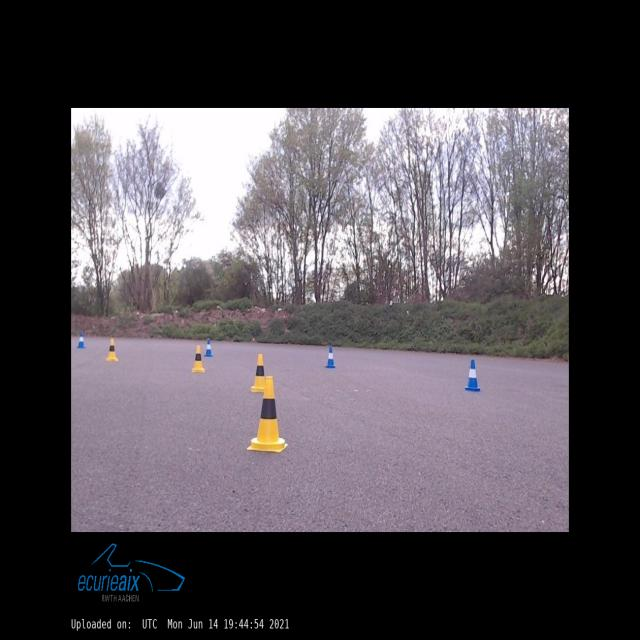blue_cone: (465, 360, 480, 392), (326, 347, 335, 368), (204, 339, 213, 356), (78, 332, 85, 348)
yellow_cone: (248, 376, 288, 452), (251, 354, 265, 392), (192, 346, 204, 372), (106, 339, 118, 360)
